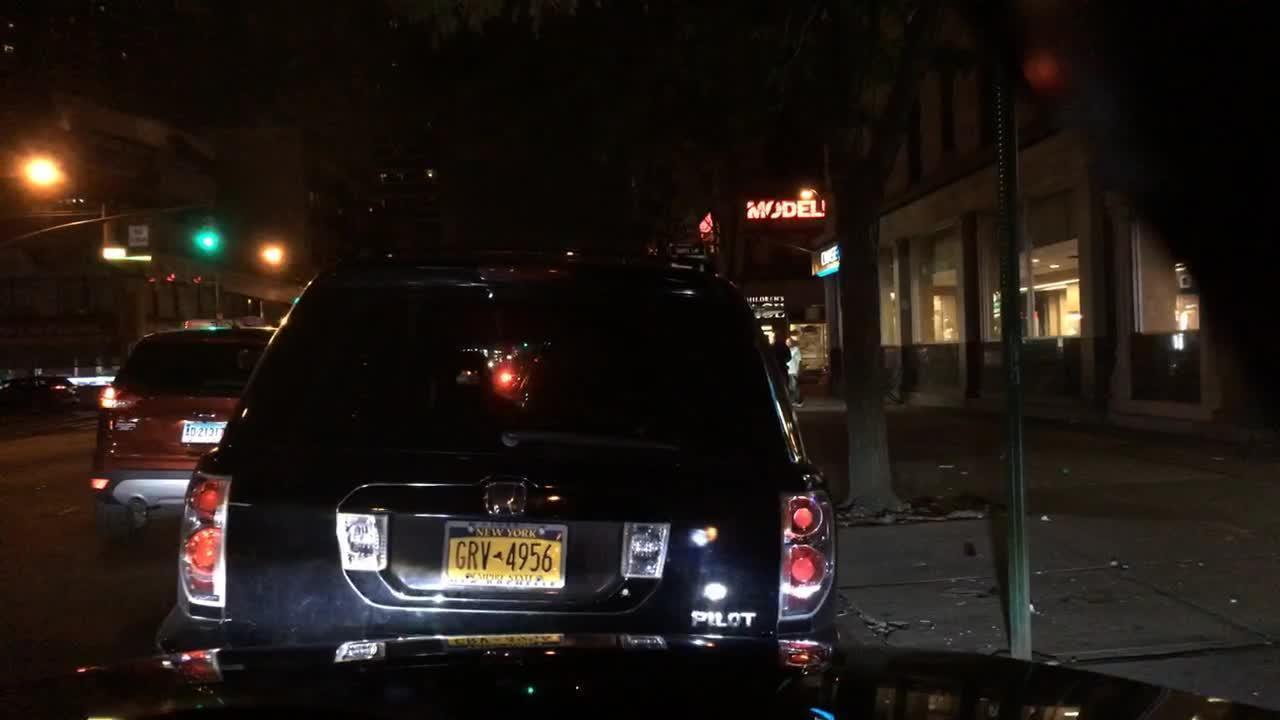Honda: (478, 465, 547, 526)
